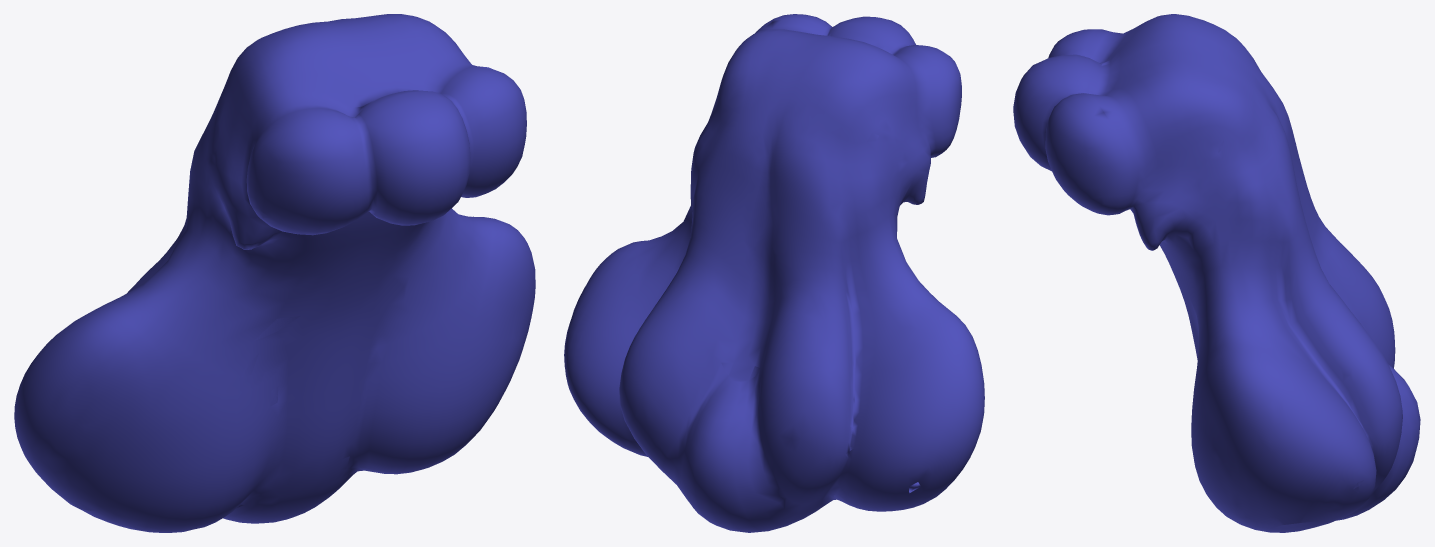
Rendered from Dummy_hair_001.glb.
3 views of the same model, side by side, from view 1: azimuth 30°, elevation 25°; view 2: azimuth 150°, elevation 25°; view 3: azimuth 270°, elevation 25° (orthographic). The views are drawn at different scales.
Parts seen in each view (by area): view 1: hair_02; view 2: hair_02; view 3: hair_02.
Part boxes in pixels (x1=…): hair_02: x1=14, y1=14, x2=535, y2=532; hair_02: x1=564, y1=14, x2=984, y2=532; hair_02: x1=1013, y1=14, x2=1420, y2=532.
Size of the model in its own units: 2.5 by 2.63 by 2.03.
